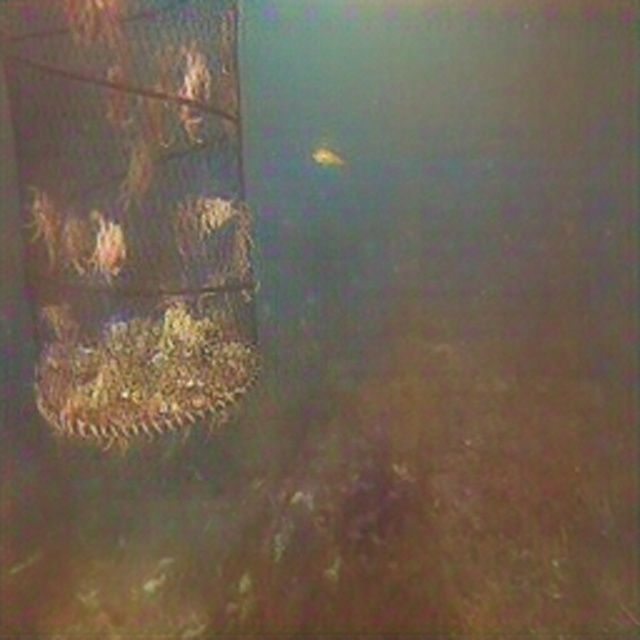mine: (0, 0, 261, 440)
